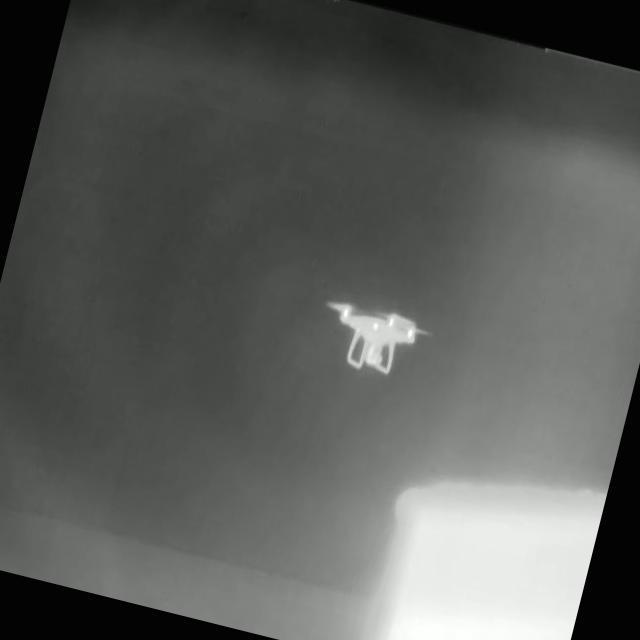DRONE: (319, 298, 434, 376)
